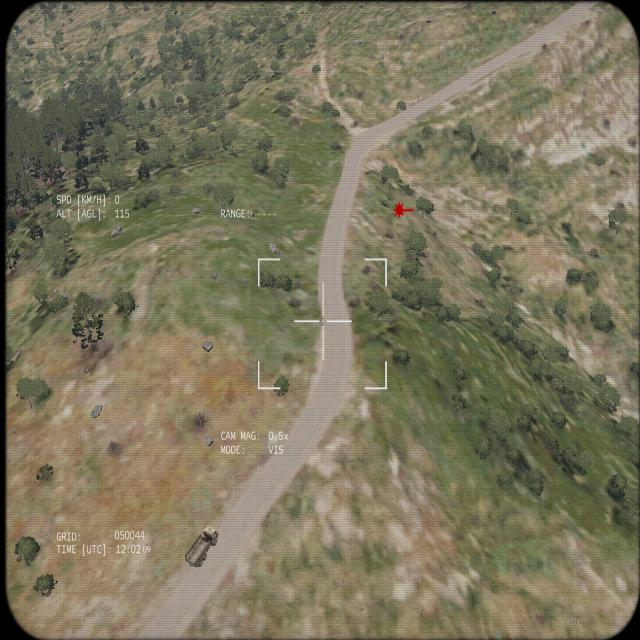truck: (183, 523, 218, 570)
